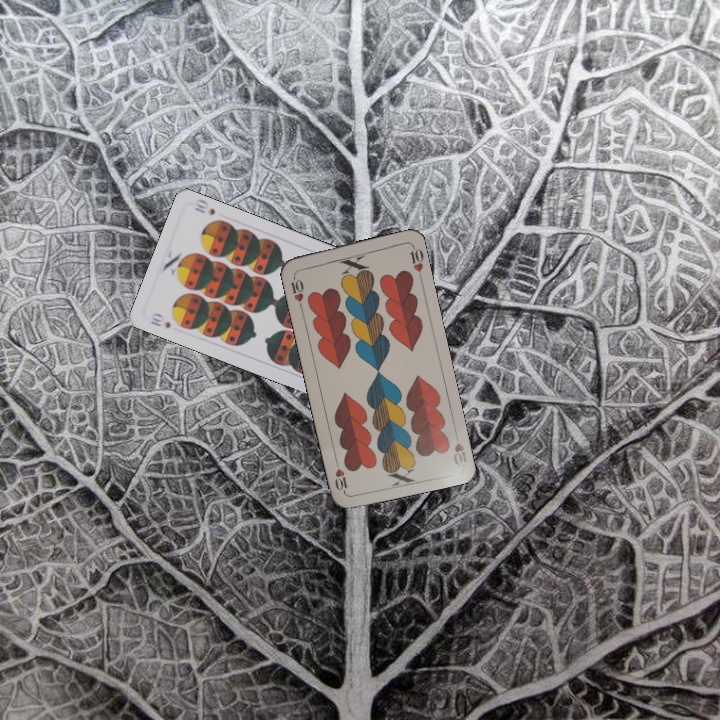H10: (286, 270, 306, 310), (450, 427, 469, 468)
S10: (146, 309, 173, 331)
